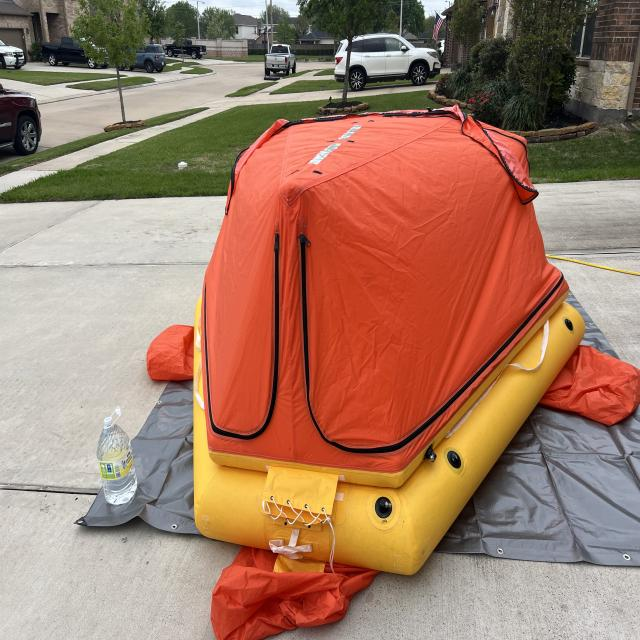Multi-person_life_raft: (147, 102, 639, 638)
